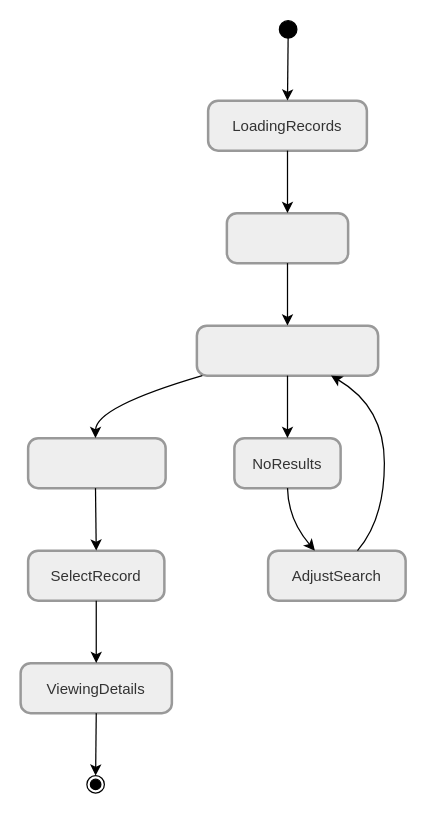
Some shapes in this 426 by 814 pixel diagram are drawn without their labels. The shapes that lost their labels are listed below. From the top down, each one's centre as x and y in pixels, then its label:
the point at 287,237: ViewingList
the point at 287,350: SearchingFiltering
the point at 96,462: ResultsFound
